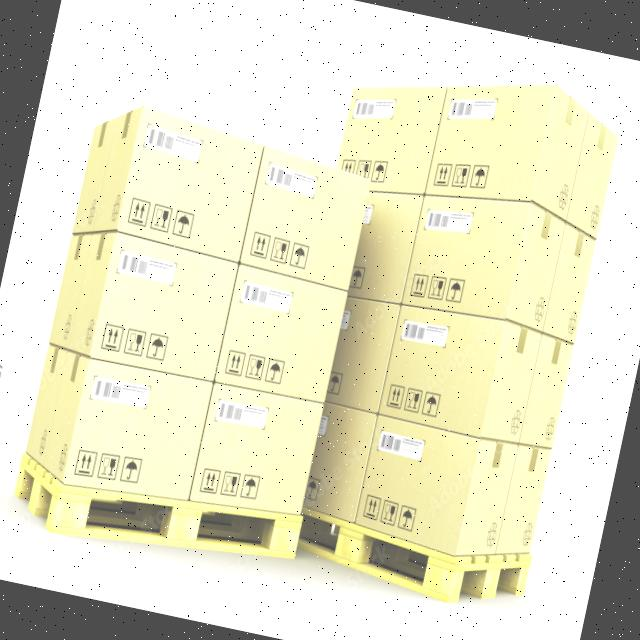pallet: (240, 36, 640, 640), (2, 80, 390, 583)
